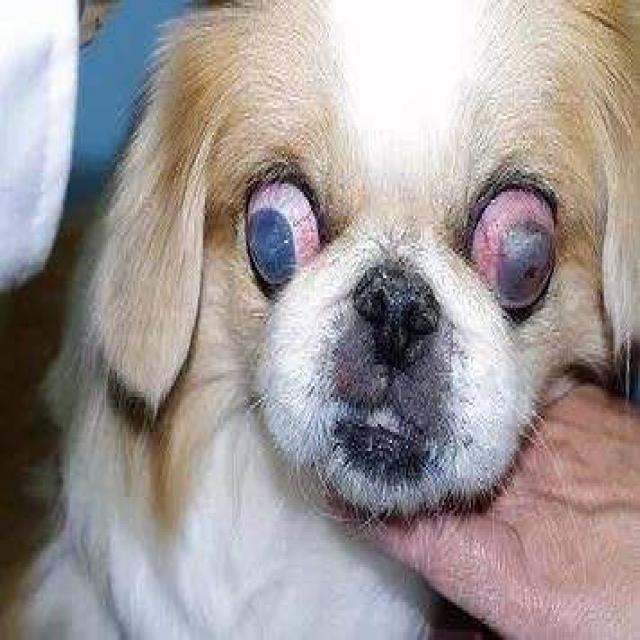eye: (461, 166, 559, 321), (239, 163, 327, 299)
